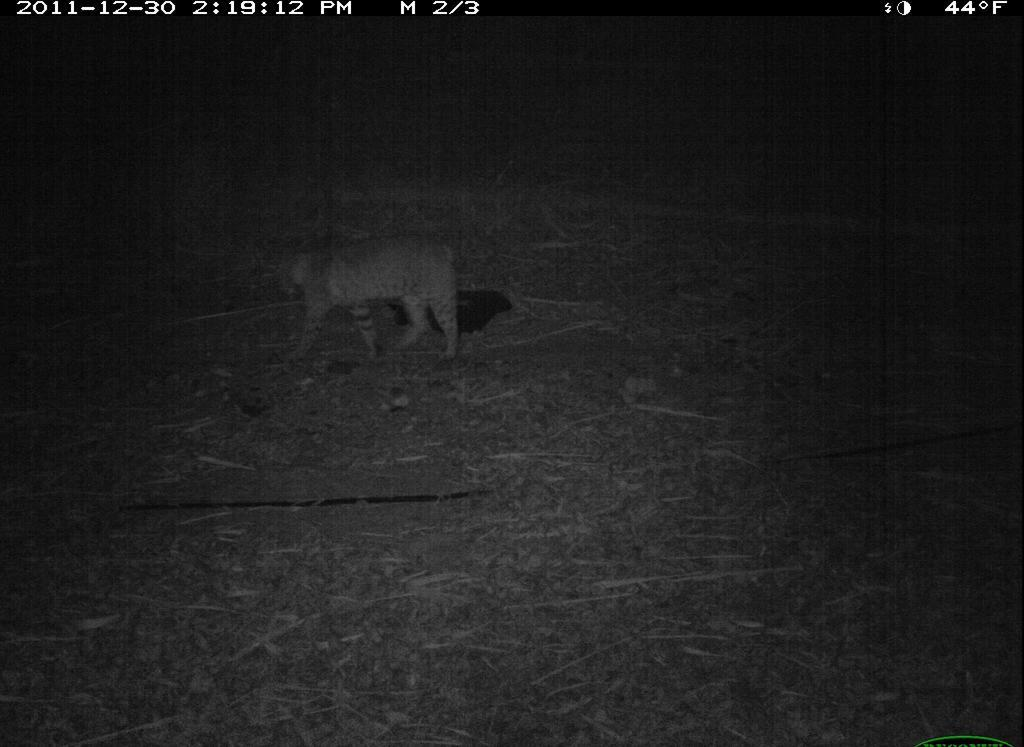bobcat: (277, 236, 469, 370)
